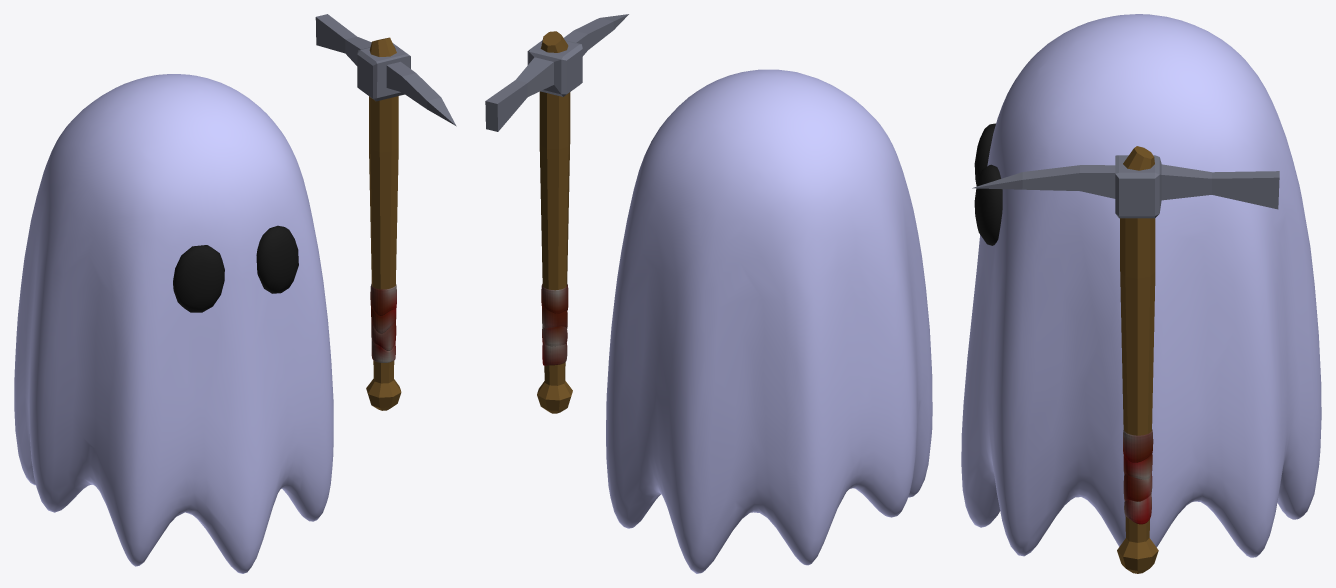
Rendered from GhostPickaxe.fbx.
The picture shows the model from 3 angles, left to right: view 1: azimuth 30°, elevation 25°; view 2: azimuth 150°, elevation 25°; view 3: azimuth 270°, elevation 25°; orthographic projection. The views are drawn at different scales.
Visible parts, largest first — view 1: Ghost, Pickaxe; view 2: Ghost, Pickaxe; view 3: Ghost, Pickaxe.
Part boxes in pixels (x1=…): Ghost: x1=14, y1=74, x2=333, y2=573; Pickaxe: x1=315, y1=14, x2=456, y2=410; Ghost: x1=606, y1=69, x2=932, y2=573; Pickaxe: x1=485, y1=14, x2=628, y2=413; Ghost: x1=961, y1=14, x2=1321, y2=557; Pickaxe: x1=972, y1=146, x2=1279, y2=573.
Size of the model in its own units: 123 by 139 by 91.02.
